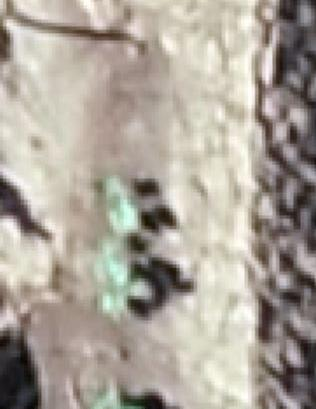cotton: (102, 176, 137, 232), (100, 256, 131, 310), (93, 390, 127, 408)
